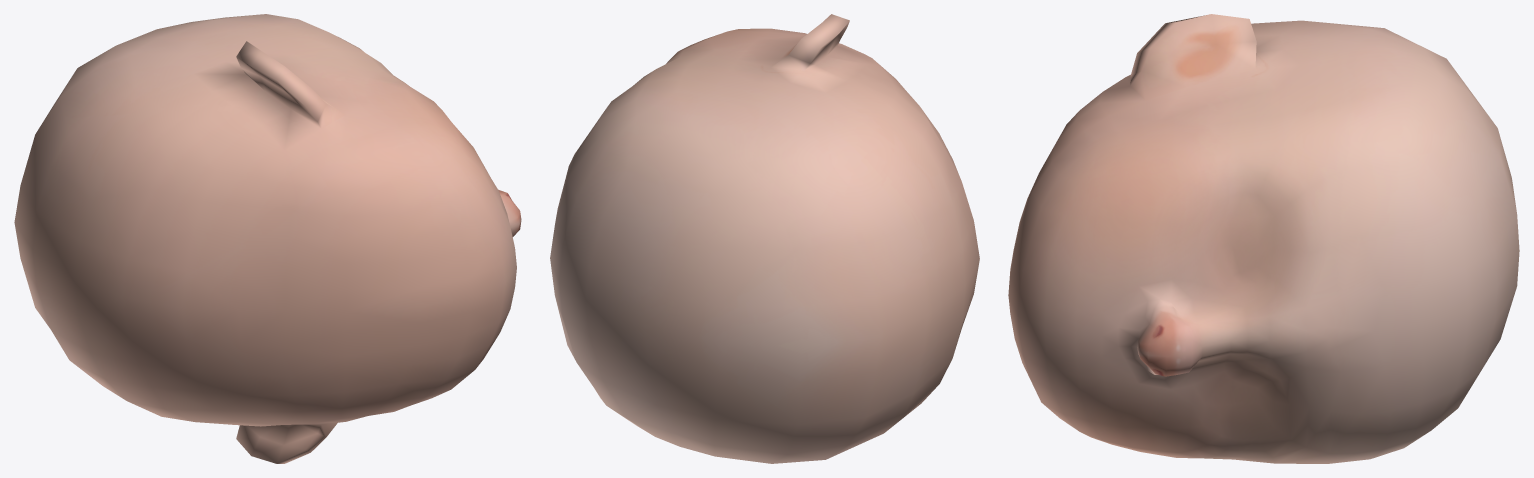
The model's file is head_00_01_001.FBX.
The picture shows the model from 3 angles, left to right: view 1: azimuth 30°, elevation 25°; view 2: azimuth 150°, elevation 25°; view 3: azimuth 270°, elevation 25°; orthographic projection. The views are drawn at different scales.
Visible parts, largest first — view 1: head_00_01_001; view 2: head_00_01_001; view 3: head_00_01_001.
Part boxes in pixels (x1=…): head_00_01_001: x1=14, y1=14, x2=521, y2=463; head_00_01_001: x1=550, y1=14, x2=979, y2=463; head_00_01_001: x1=1008, y1=14, x2=1519, y2=463.
Size of the model in its own units: 57.75 by 59.28 by 56.3.
